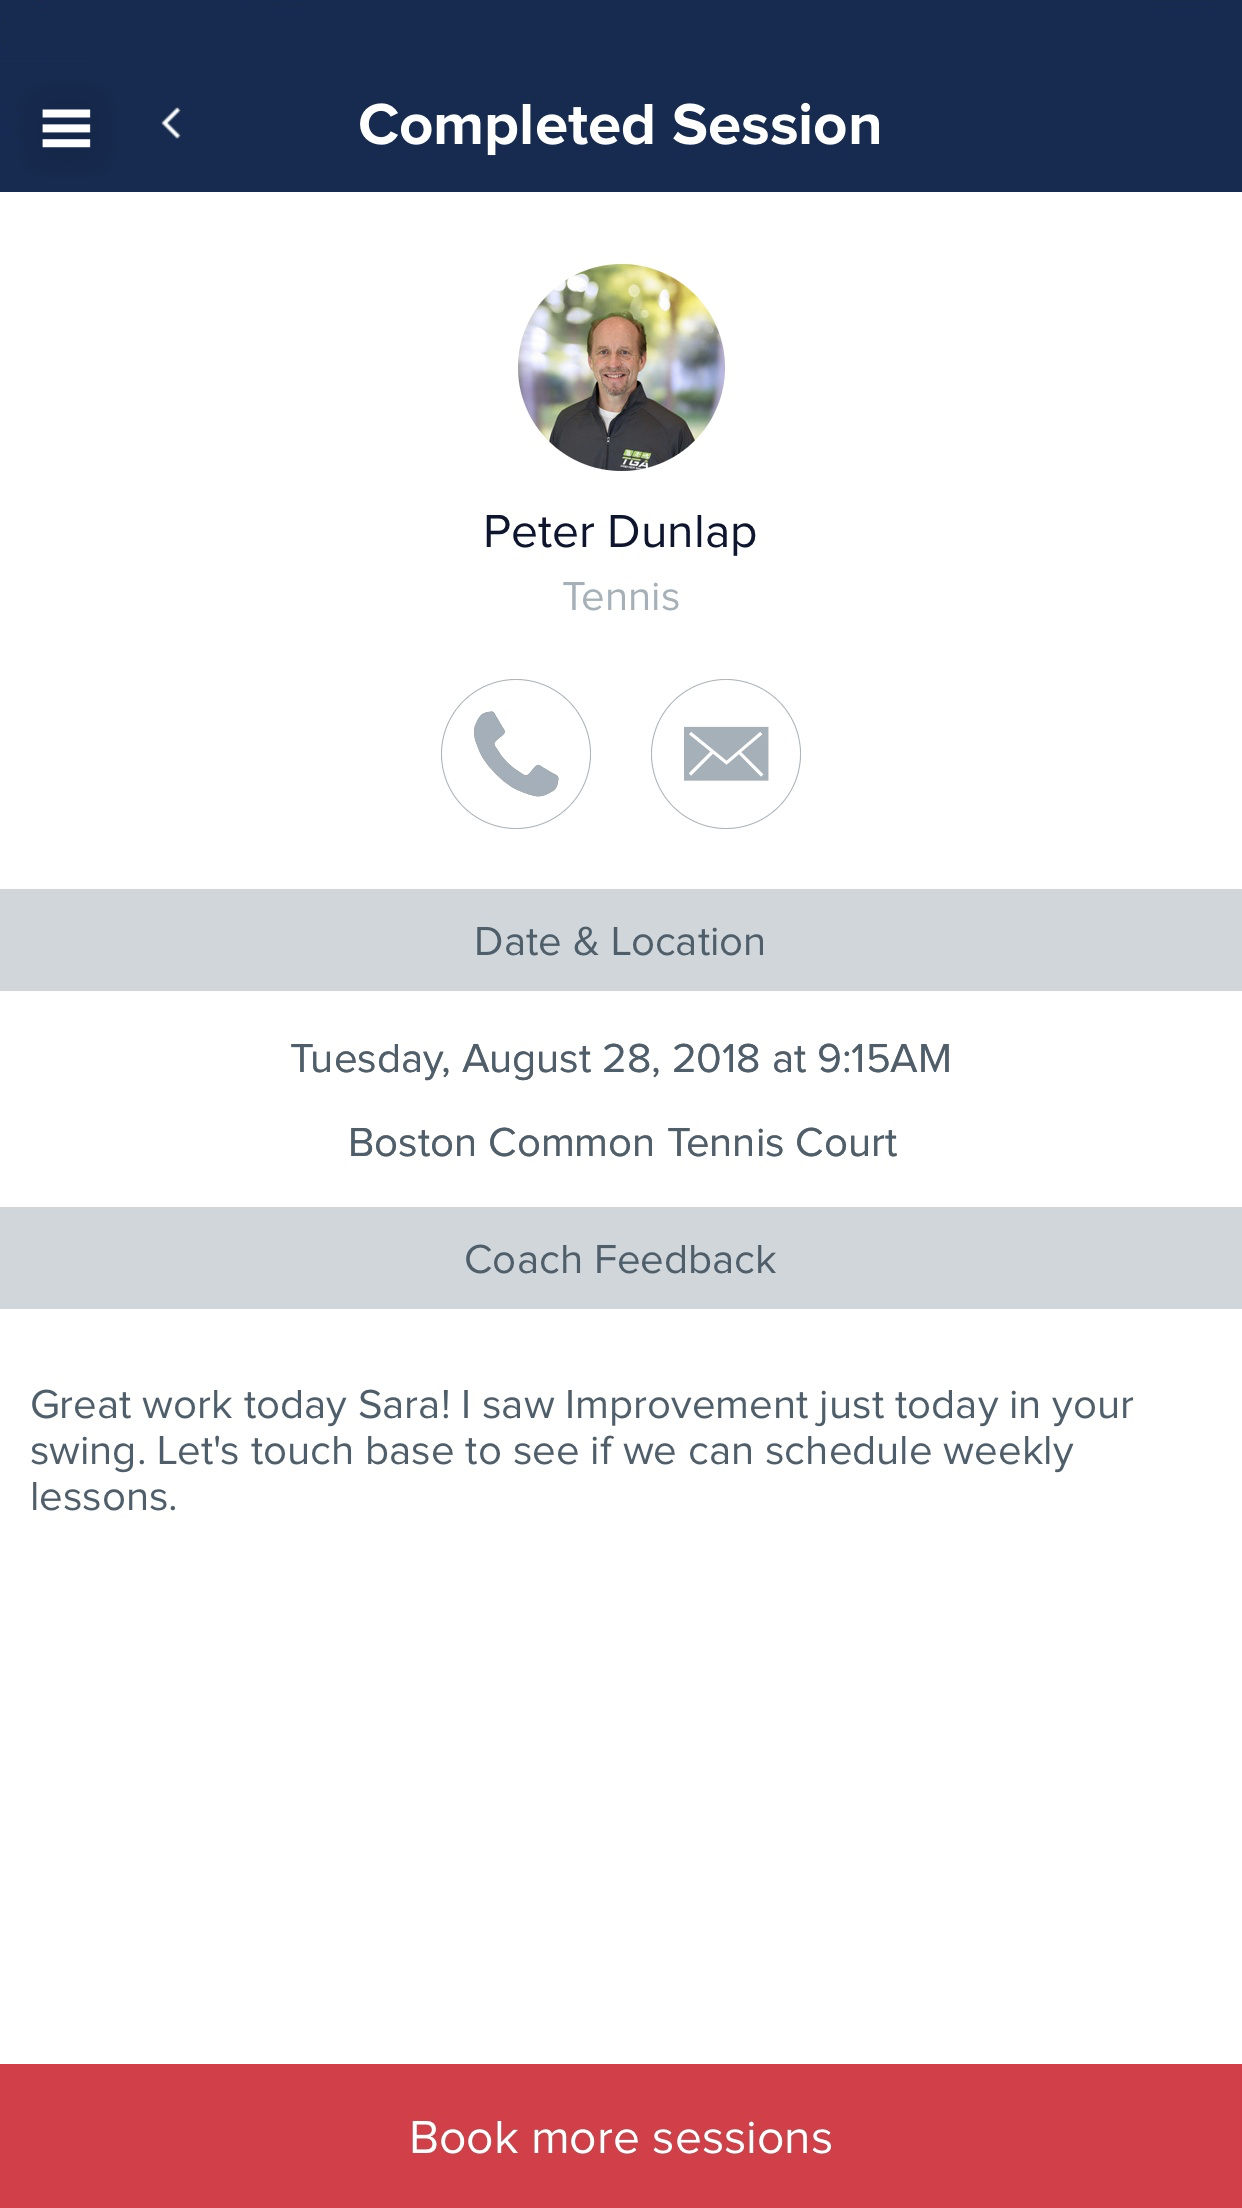Icon: (651, 678, 802, 830), (42, 109, 93, 150), (161, 108, 182, 141)
Image: (517, 264, 726, 473), (440, 678, 591, 830)
Text: (30, 1388, 1134, 1512), (291, 1042, 949, 1159), (359, 102, 880, 158), (485, 516, 757, 558), (466, 1244, 776, 1275), (476, 927, 764, 958), (563, 581, 679, 613)
TextButton: (2, 2062, 1242, 2208)
